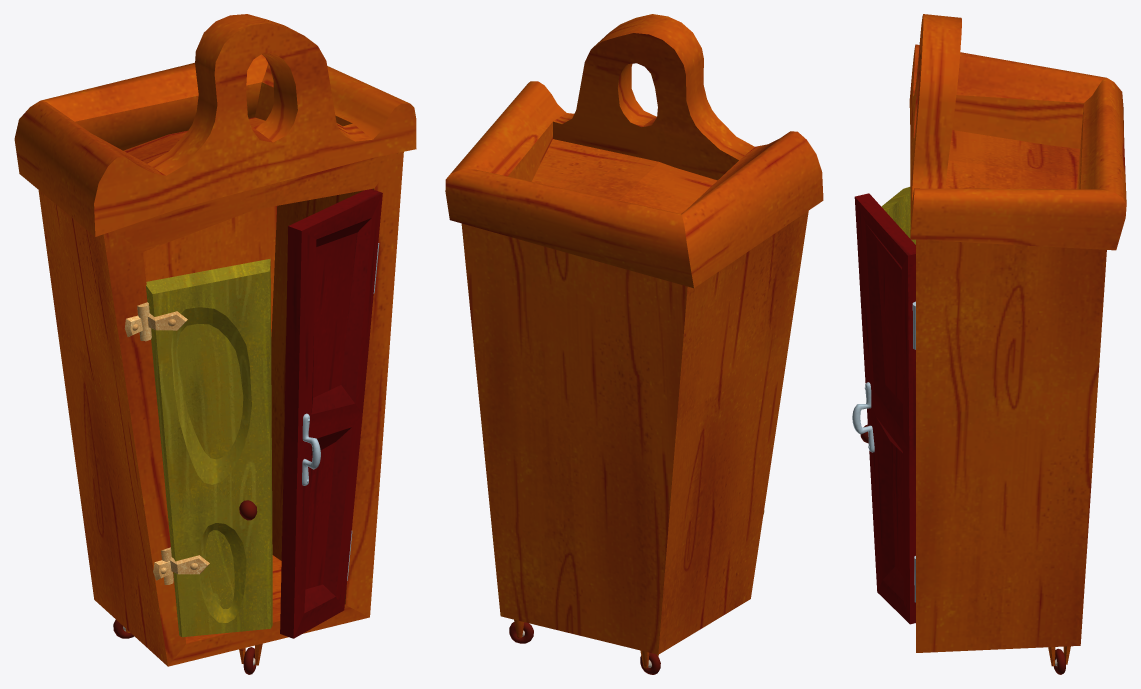
3 renders of one model, left to right at view 1: azimuth 30°, elevation 25°; view 2: azimuth 150°, elevation 25°; view 3: azimuth 270°, elevation 25°, orthographic. The views are drawn at different scales.
Parts seen in each view (by area): view 1: cupboard_0, cupboard_part_2_2, cupboard_part_1; view 2: cupboard_0; view 3: cupboard_0, cupboard_part_1, cupboard_part_2_2.
Boxes of the visible parts, bbox=[...] form: cupboard_0: bbox=[14, 14, 416, 674]; cupboard_part_2_2: bbox=[137, 258, 272, 637]; cupboard_part_1: bbox=[280, 189, 382, 638]; cupboard_0: bbox=[445, 14, 823, 674]; cupboard_0: bbox=[909, 14, 1126, 674]; cupboard_part_1: bbox=[852, 193, 915, 624]; cupboard_part_2_2: bbox=[860, 187, 915, 443].
Bounding box in the file's own units: 1.48 × 2.87 × 1.16.
9 materials, 9 textured.
